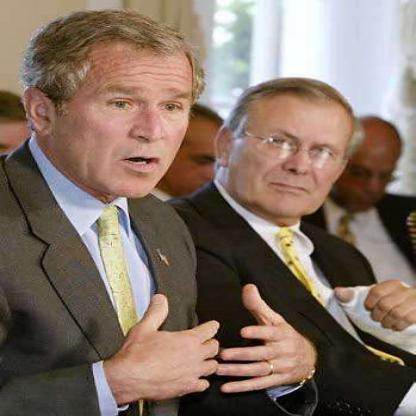face: (48, 15, 200, 201), (232, 81, 358, 221), (168, 114, 244, 205), (330, 123, 406, 214)
